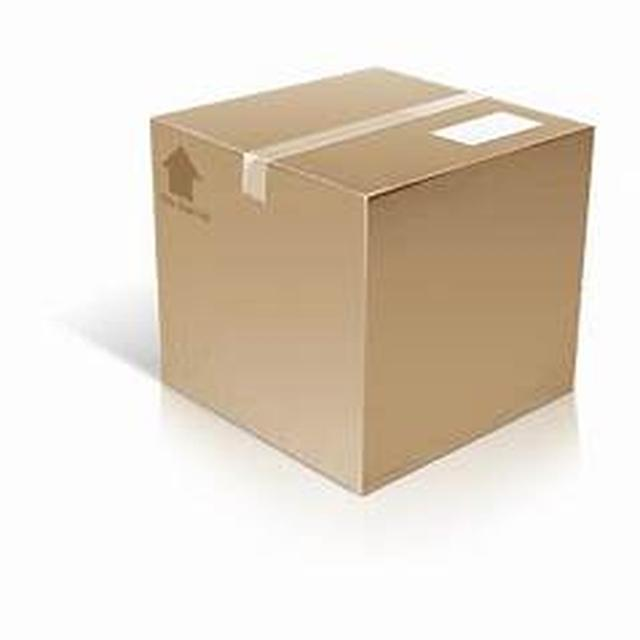box: (144, 31, 605, 490)
